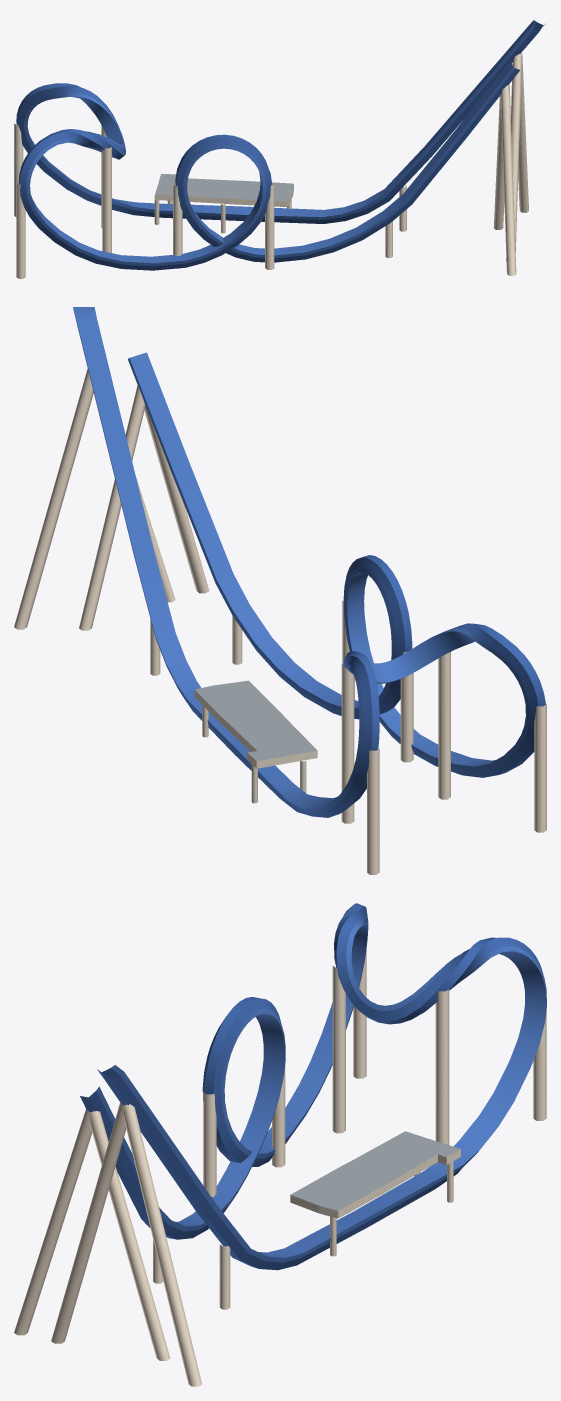
File: detail.glb
3 views of the same model, one above another, from view 1: azimuth 30°, elevation 25°; view 2: azimuth 150°, elevation 25°; view 3: azimuth 270°, elevation 25° (orthographic). The views are drawn at different scales.
Parts seen in each view (by area): view 1: the-flying-cobras-carowinds; view 2: the-flying-cobras-carowinds; view 3: the-flying-cobras-carowinds.
Boxes of the visible parts, bbox=[...] form: the-flying-cobras-carowinds: bbox=[14, 20, 545, 278]; the-flying-cobras-carowinds: bbox=[14, 307, 546, 874]; the-flying-cobras-carowinds: bbox=[14, 903, 546, 1386].
Size of the model in its own units: 77.3 by 35.94 by 55.64.
